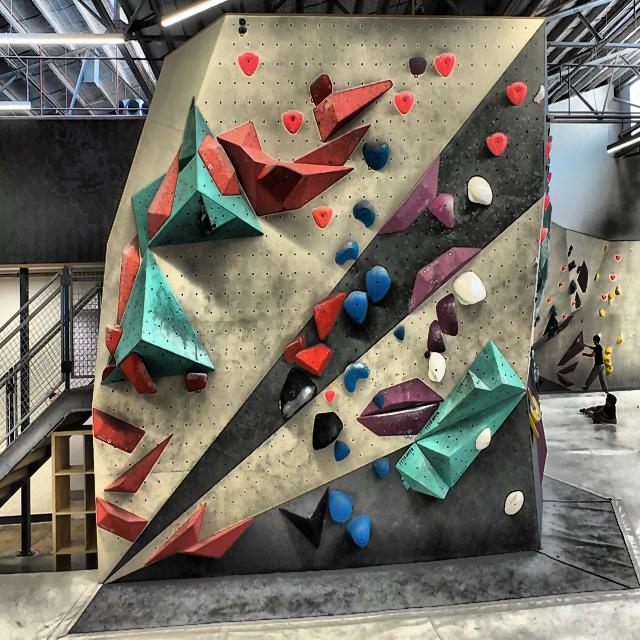Hold: (376, 150, 442, 241), (405, 240, 479, 316), (141, 490, 204, 564), (182, 510, 258, 567), (104, 434, 173, 496), (354, 378, 455, 414), (146, 144, 183, 241), (352, 403, 449, 440), (282, 483, 328, 549), (196, 134, 242, 200), (89, 407, 144, 453), (94, 496, 144, 543), (530, 368, 550, 483), (279, 366, 315, 424), (311, 293, 346, 340), (118, 354, 156, 395), (452, 269, 488, 305), (310, 412, 342, 451), (295, 344, 331, 378), (430, 188, 456, 233), (465, 172, 497, 208), (436, 294, 462, 338), (556, 329, 585, 366), (364, 264, 391, 302), (361, 141, 392, 171), (343, 362, 371, 393), (343, 288, 367, 324), (280, 333, 304, 366), (330, 489, 354, 522), (349, 514, 372, 548), (102, 321, 125, 354), (505, 80, 532, 108), (183, 370, 209, 398), (333, 239, 358, 268), (485, 131, 512, 157), (237, 49, 261, 78), (474, 424, 493, 457), (426, 318, 444, 352), (426, 353, 447, 382), (352, 203, 377, 227), (504, 491, 524, 520), (434, 53, 456, 79), (310, 204, 334, 227), (391, 90, 412, 116), (281, 111, 303, 133), (333, 441, 354, 464), (526, 414, 542, 442), (556, 372, 578, 391), (529, 396, 544, 423), (407, 57, 427, 77), (371, 456, 389, 478), (558, 310, 575, 333), (100, 358, 116, 382), (579, 261, 589, 297), (543, 310, 556, 336), (522, 384, 535, 408), (557, 361, 580, 374), (200, 212, 213, 233), (373, 393, 387, 411), (390, 324, 404, 342), (614, 334, 625, 346), (532, 315, 540, 331), (548, 326, 557, 340), (569, 279, 577, 294), (535, 276, 544, 289), (614, 284, 621, 299), (602, 353, 614, 361), (598, 308, 607, 318), (574, 293, 580, 308), (604, 344, 613, 353), (567, 260, 575, 270), (532, 295, 540, 305), (602, 241, 608, 254), (613, 254, 622, 262), (556, 279, 564, 288), (575, 264, 582, 274), (600, 292, 608, 300), (604, 360, 613, 367), (608, 292, 617, 298), (605, 368, 614, 374), (610, 272, 616, 280), (560, 263, 566, 271), (546, 295, 552, 302), (562, 312, 568, 319), (568, 242, 572, 251), (568, 251, 572, 259), (608, 299, 612, 305), (571, 302, 575, 307)
